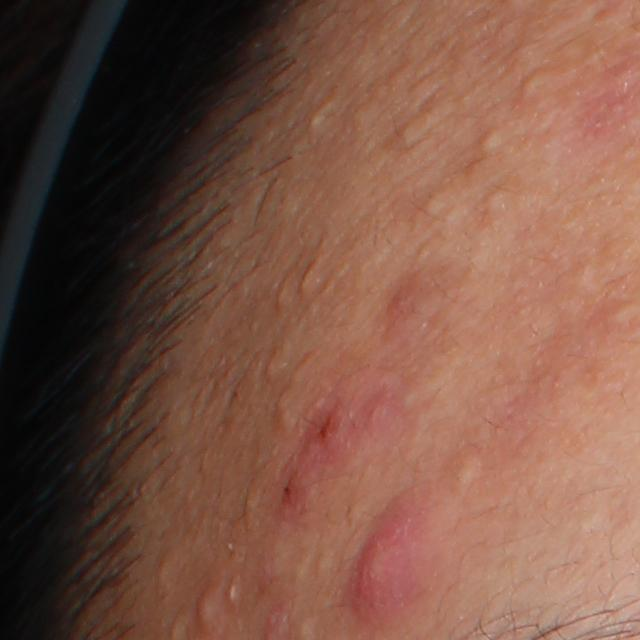comedo: (443, 446, 485, 493), (392, 108, 433, 148), (515, 69, 549, 101), (479, 121, 508, 151), (480, 187, 510, 213), (422, 191, 447, 218), (308, 107, 325, 127), (228, 581, 240, 604)
papule: (345, 517, 419, 620)
